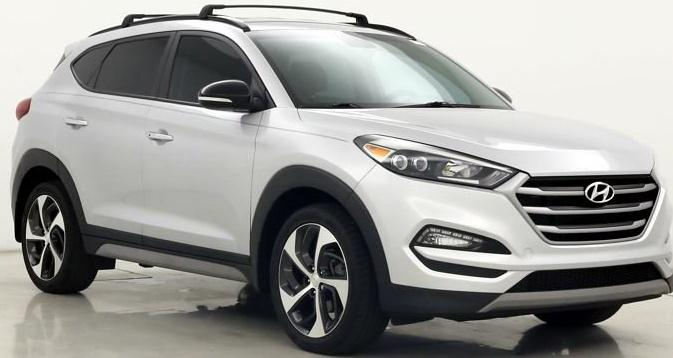SUV: (12, 5, 673, 354)
